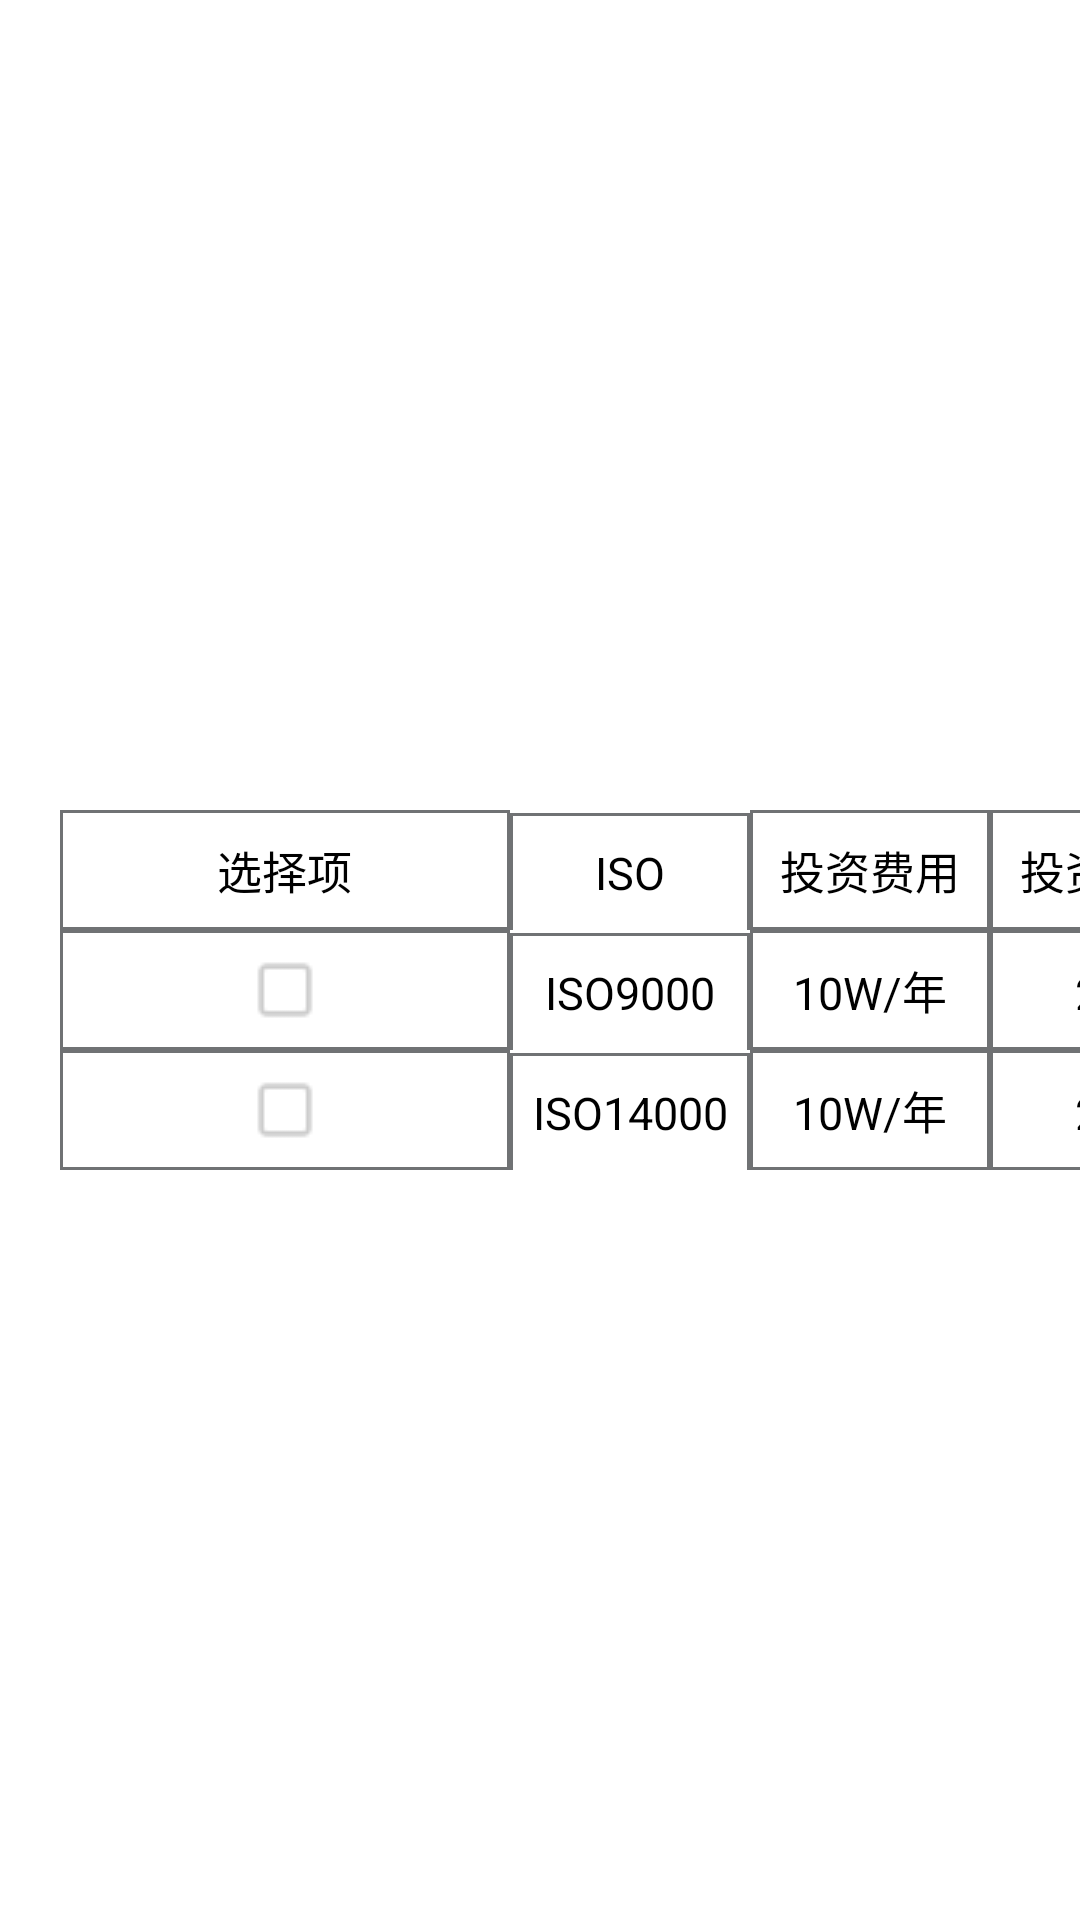

Screen size 1080w x 1920h. Icon name, then its box in pixels as box=[x1, y1, x2, y2]:
checkbox style: box=[258, 963, 312, 1017], box=[258, 1083, 312, 1137]
